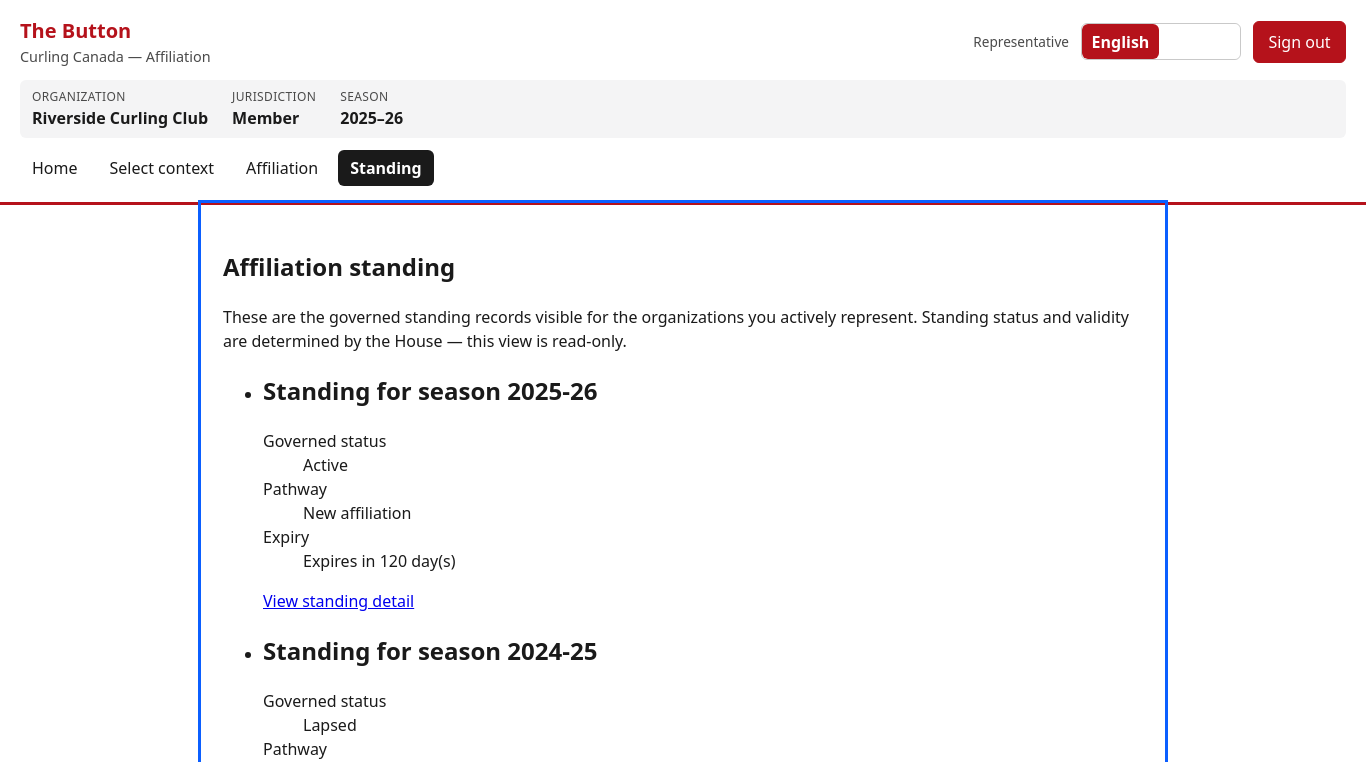
Scenario: Button affiliation standing views (read-only) › lists governed standing records with derived expiry, bilingually
The image size is (1366, 762).
Expected: the heading "Affiliation standing" is shown, [223,250,455,283]
Expected: the text "Active" is shown, [303,454,348,476]
Click the button "Français" at [1200, 42], box [1159,24,1240,59]
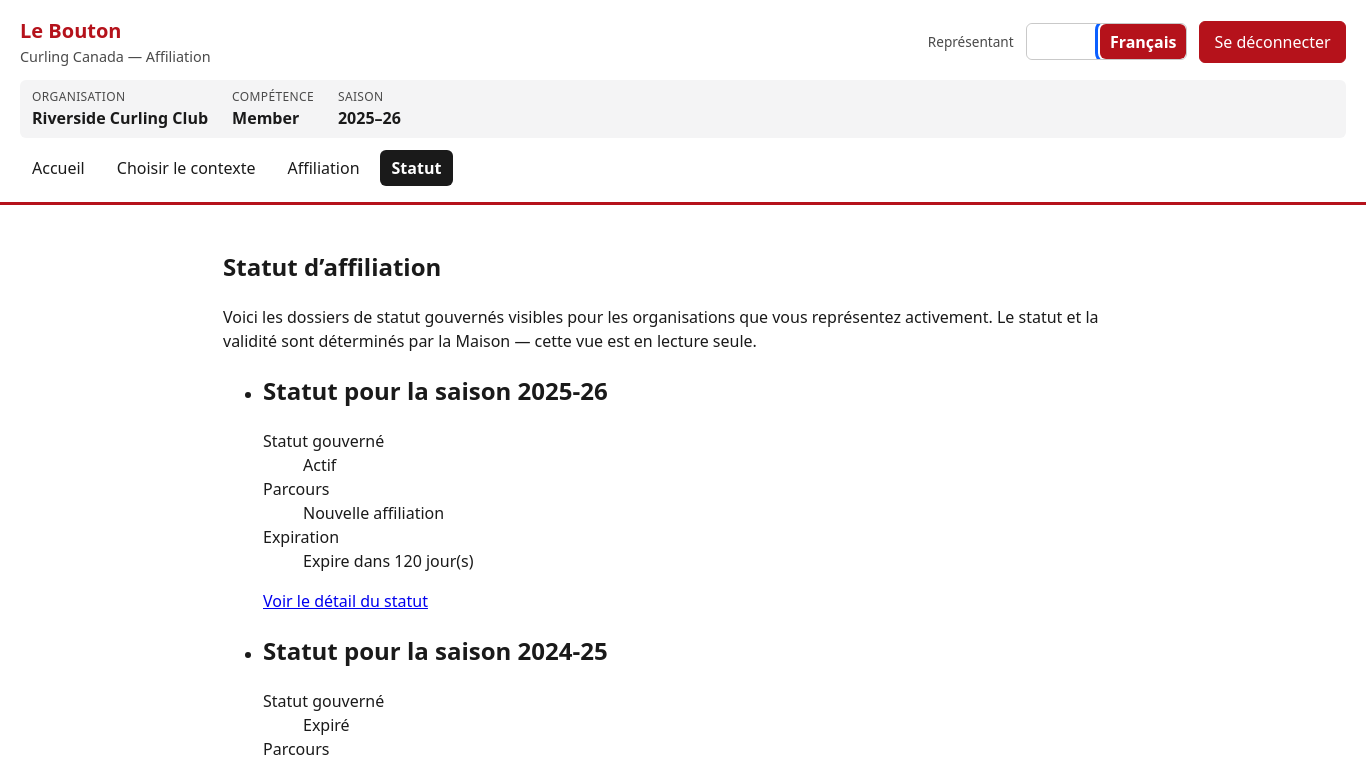
Expected: the text "Actif" is shown, [303,454,336,476]
Expected: the text "Expire dans 120 jour(s)" is shown, [303,550,474,572]
